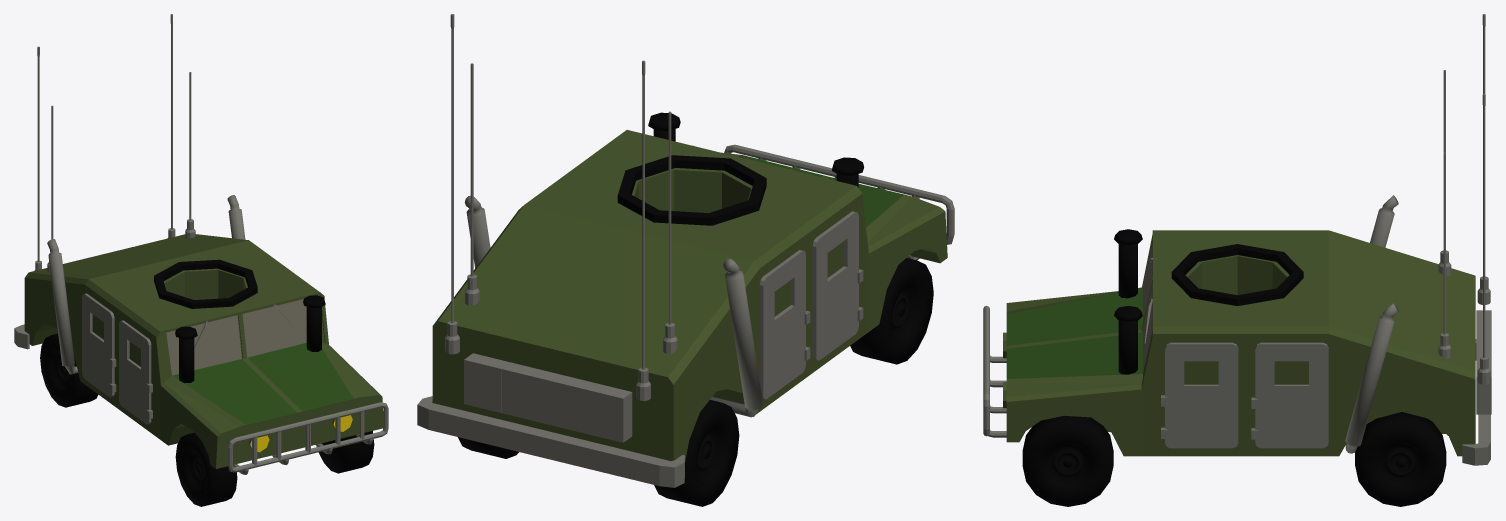
The model's file is humvee.fbx.
The picture shows the model from 3 angles, left to right: view 1: azimuth 30°, elevation 25°; view 2: azimuth 150°, elevation 25°; view 3: azimuth 270°, elevation 25°; orthographic projection. The views are drawn at different scales.
Parts seen in each view (by area): view 1: Cylinder; view 2: Cylinder; view 3: Cylinder.
Part boxes in pixels (x1,y1,x2,y2): Cylinder: (14, 14, 388, 506); Cylinder: (417, 14, 954, 506); Cylinder: (983, 14, 1491, 506).
Size of the model in its own units: 732 by 1206 by 1376.
